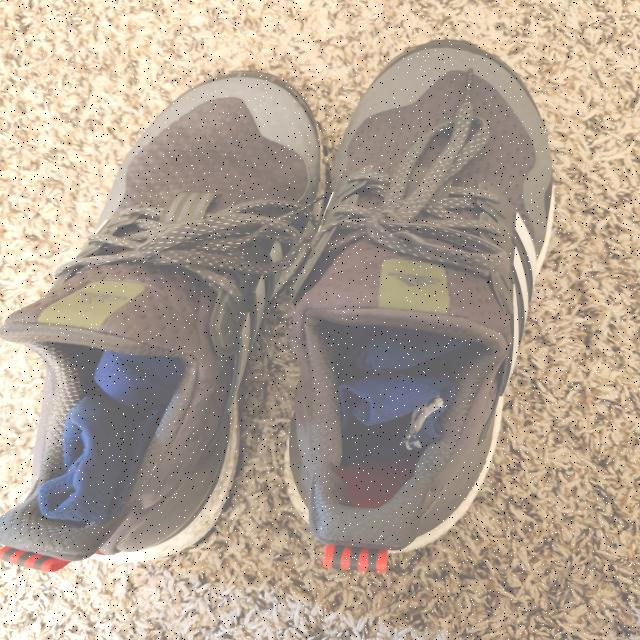black shoes: (23, 55, 566, 585)
